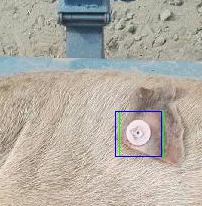text: (119, 111, 163, 156)
